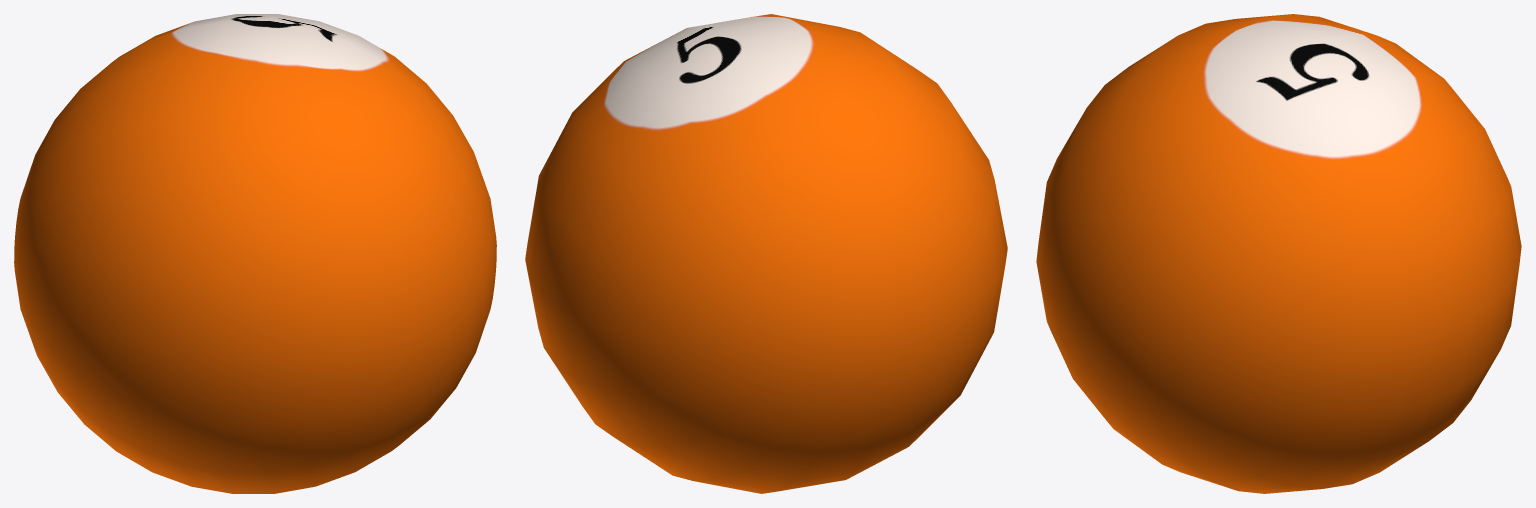
The model's file is ball-13.glb.
The picture shows the model from 3 angles, left to right: view 1: azimuth 30°, elevation 25°; view 2: azimuth 150°, elevation 25°; view 3: azimuth 270°, elevation 25°; orthographic projection.
Parts seen in each view (by area): view 1: PoolBall_5; view 2: PoolBall_5; view 3: PoolBall_5.
Boxes of the visible parts, bbox=[...] form: PoolBall_5: bbox=[14, 14, 496, 493]; PoolBall_5: bbox=[525, 14, 1007, 493]; PoolBall_5: bbox=[1036, 14, 1521, 493].
Bounding box in the file's own units: 0.2399 × 0.236 × 0.2412.
Materials: 1 (1 with a texture image).
